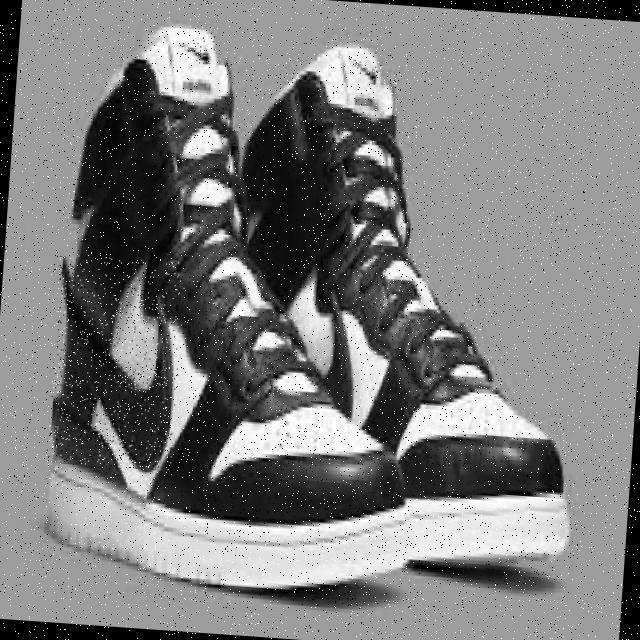Nike: (46, 253, 186, 470), (346, 50, 385, 81), (180, 32, 216, 65)
